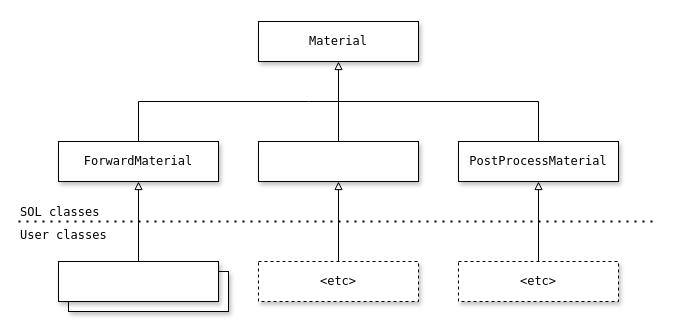
Image size: 677x336. Some labels were removed from this diagram. The centre of each missing label's shape, as x and y in pixels:
DeferredMaterial: the point at 339,162
MyFwdMaterial: the point at 139,282
